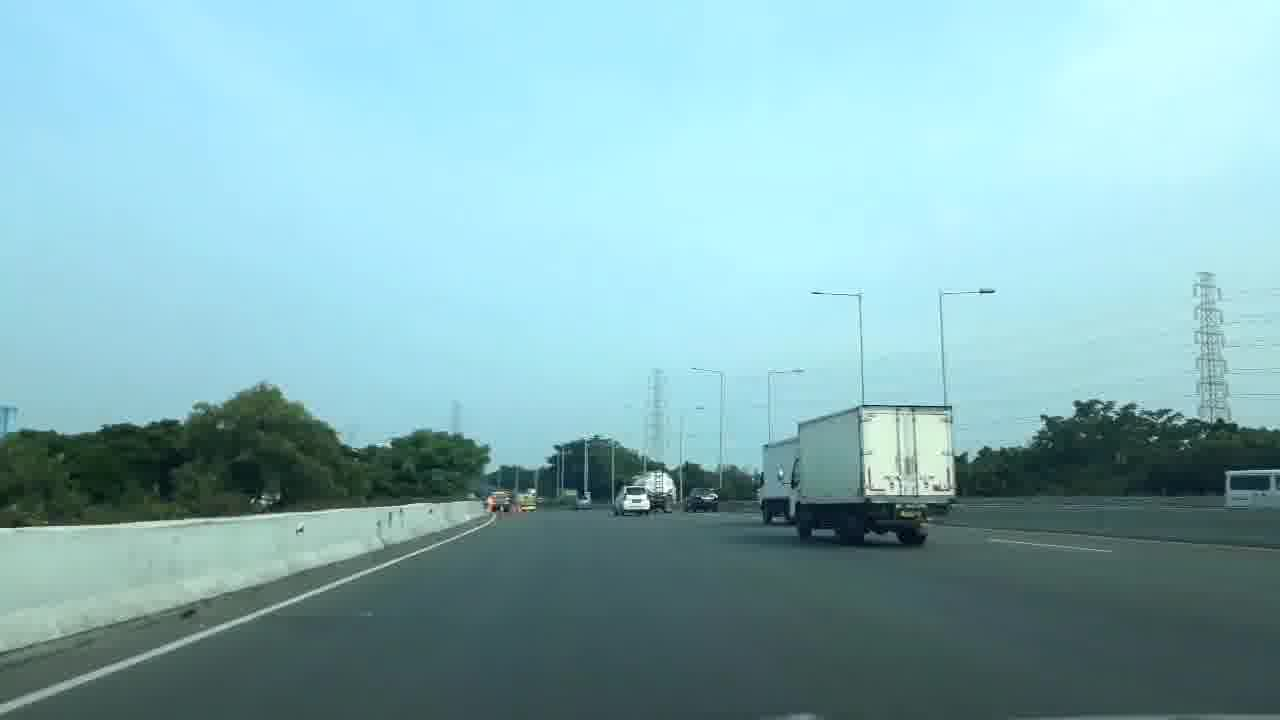plate_positive: (899, 510, 923, 518)
